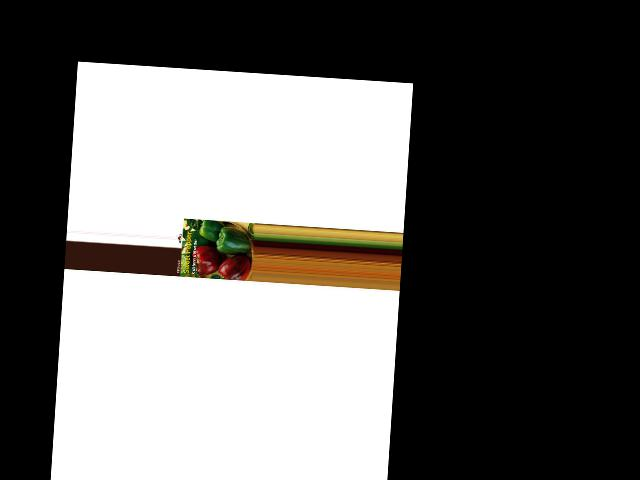bell_pepper: (196, 218, 228, 240)
